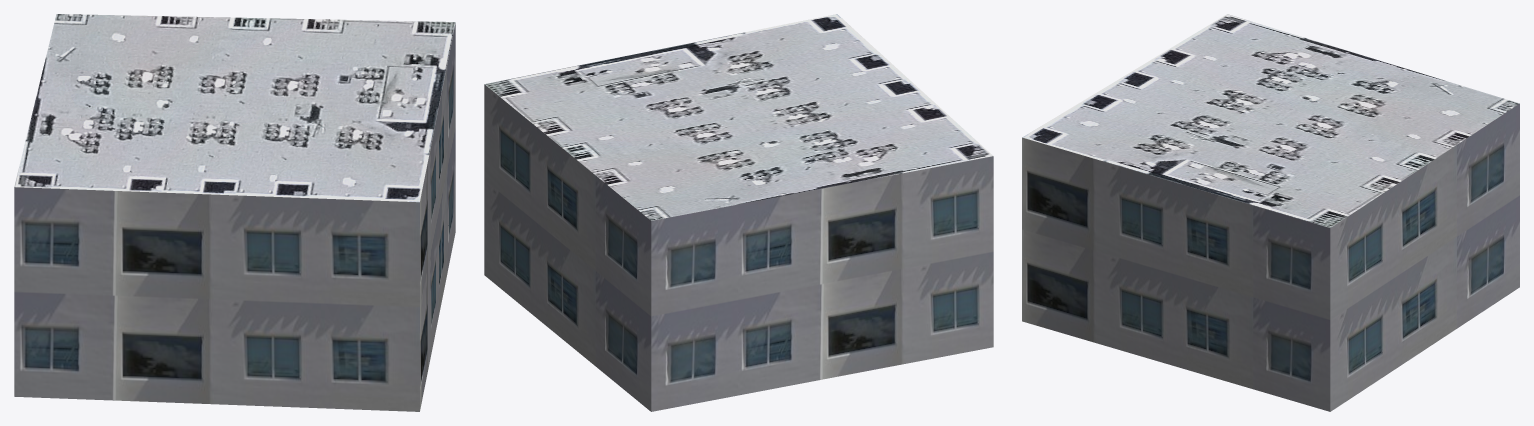
File: ResTex__3226.fbx
3 renders of one model, left to right at view 1: azimuth 30°, elevation 25°; view 2: azimuth 150°, elevation 25°; view 3: azimuth 270°, elevation 25°, orthographic. The views are drawn at different scales.
Parts seen in each view (by area): view 1: CityEngineMaterial_10_m, CityEngineMaterial_4_m; view 2: CityEngineMaterial_10_m, CityEngineMaterial_4_m; view 3: CityEngineMaterial_10_m, CityEngineMaterial_4_m.
Boxes of the visible parts, bbox=[...] form: CityEngineMaterial_10_m: bbox=[14, 23, 455, 411]; CityEngineMaterial_4_m: bbox=[14, 14, 455, 202]; CityEngineMaterial_10_m: bbox=[484, 84, 993, 411]; CityEngineMaterial_4_m: bbox=[484, 14, 993, 220]; CityEngineMaterial_10_m: bbox=[1022, 103, 1519, 411]; CityEngineMaterial_4_m: bbox=[1022, 14, 1519, 227].
Size of the model in its own units: 14.98 by 6 by 14.72.
2 materials, 2 textured.
